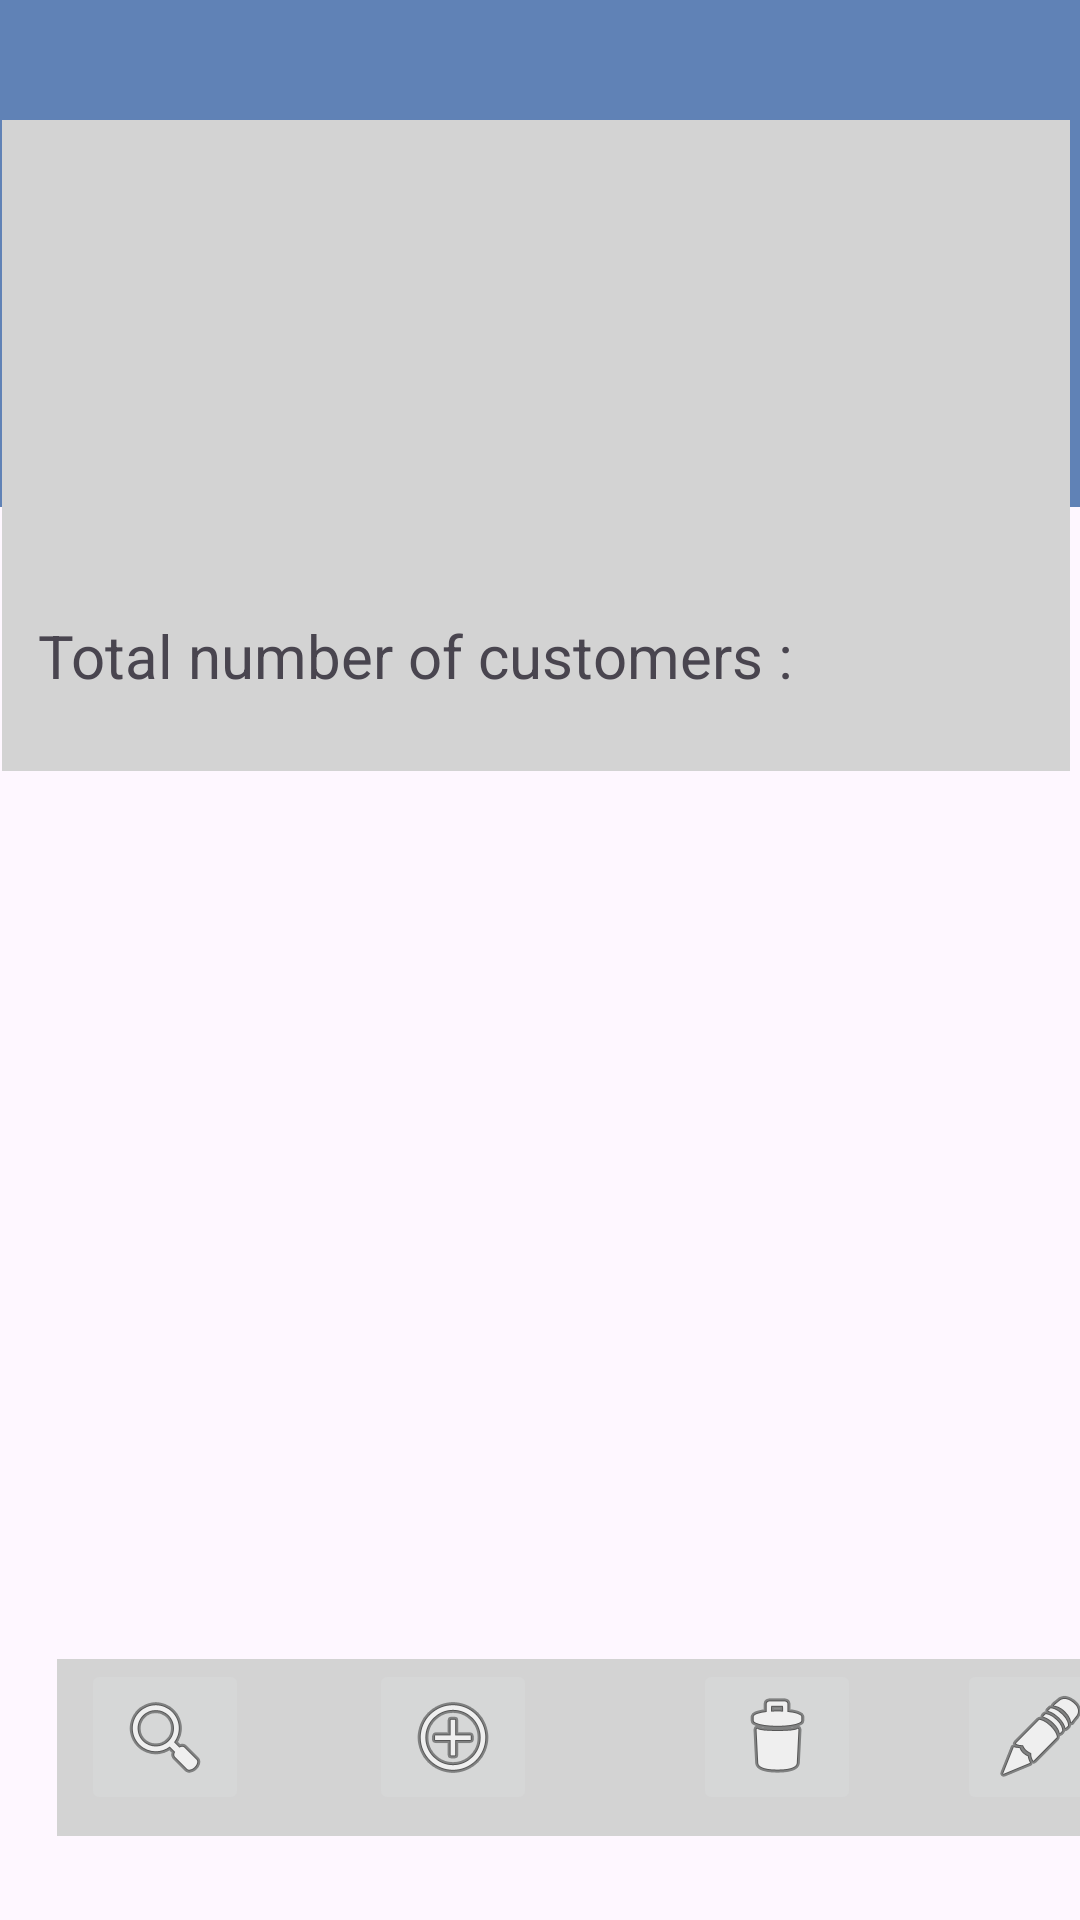

Icon bounding boxes for this 1080 × 1920 phone screenshot, format region(x1, y1, x2, y2):
add: region(417, 1702, 489, 1773)
delete: region(750, 1698, 805, 1773)
search: region(130, 1702, 200, 1773)
